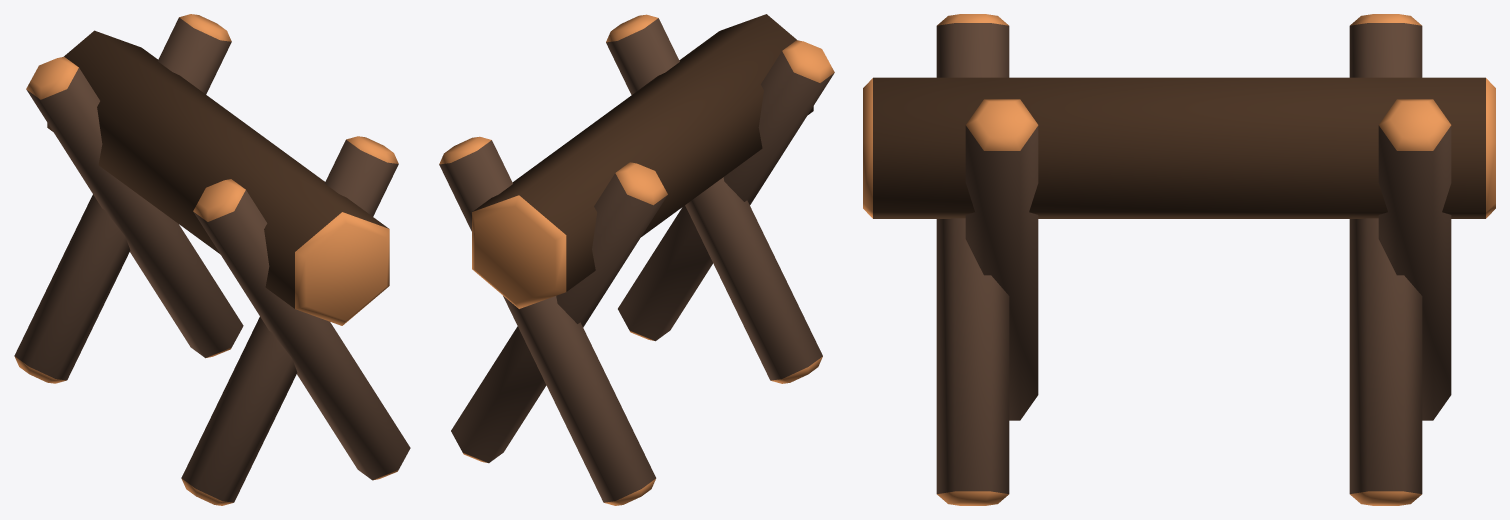
Rendered from Saw-cut.fbx.
3 views of the same model, side by side, from view 1: azimuth 30°, elevation 25°; view 2: azimuth 150°, elevation 25°; view 3: azimuth 270°, elevation 25° (orthographic). The views are drawn at different scales.
Visible parts, largest first — view 1: Cylinder.314, Cylinder.313, Cylinder.315; view 2: Cylinder.314, Cylinder.315, Cylinder.313; view 3: Cylinder.314, Cylinder.313, Cylinder.315.
Part boxes in pixels (left/top/right/bottom): Cylinder.314: left=47, top=30, right=389, bottom=325; Cylinder.313: left=26, top=57, right=410, bottom=480; Cylinder.315: left=14, top=14, right=398, bottom=505; Cylinder.314: left=472, top=14, right=813, bottom=308; Cylinder.315: left=439, top=14, right=822, bottom=505; Cylinder.313: left=451, top=40, right=834, bottom=463; Cylinder.314: left=863, top=77, right=1495, bottom=218; Cylinder.313: left=936, top=14, right=1422, bottom=505; Cylinder.315: left=965, top=99, right=1451, bottom=420.
Size of the model in its own units: 22.89 by 35.25 by 50.01.
